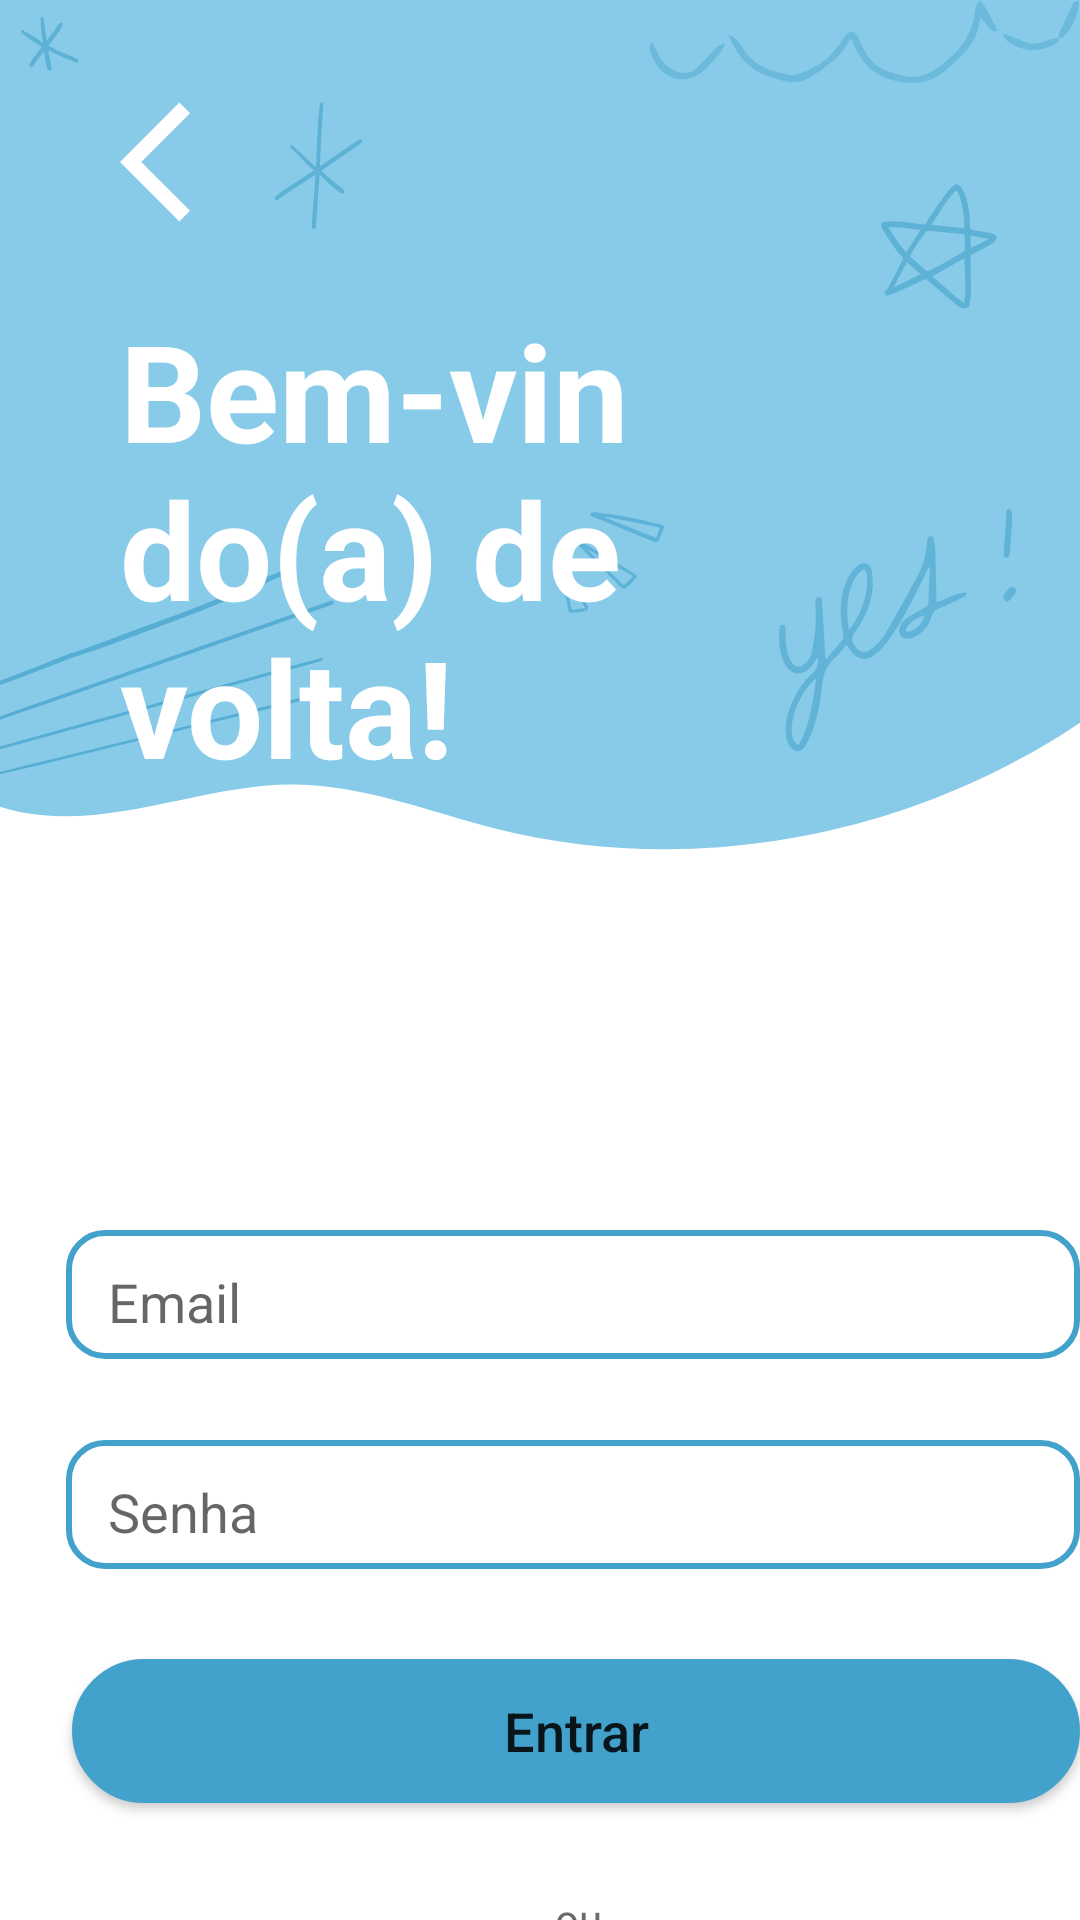

Screen size 1080*1920. Icon name, then its box in pixels as (x1, y1, x2, y2):
voltar: (120, 102, 190, 222)
